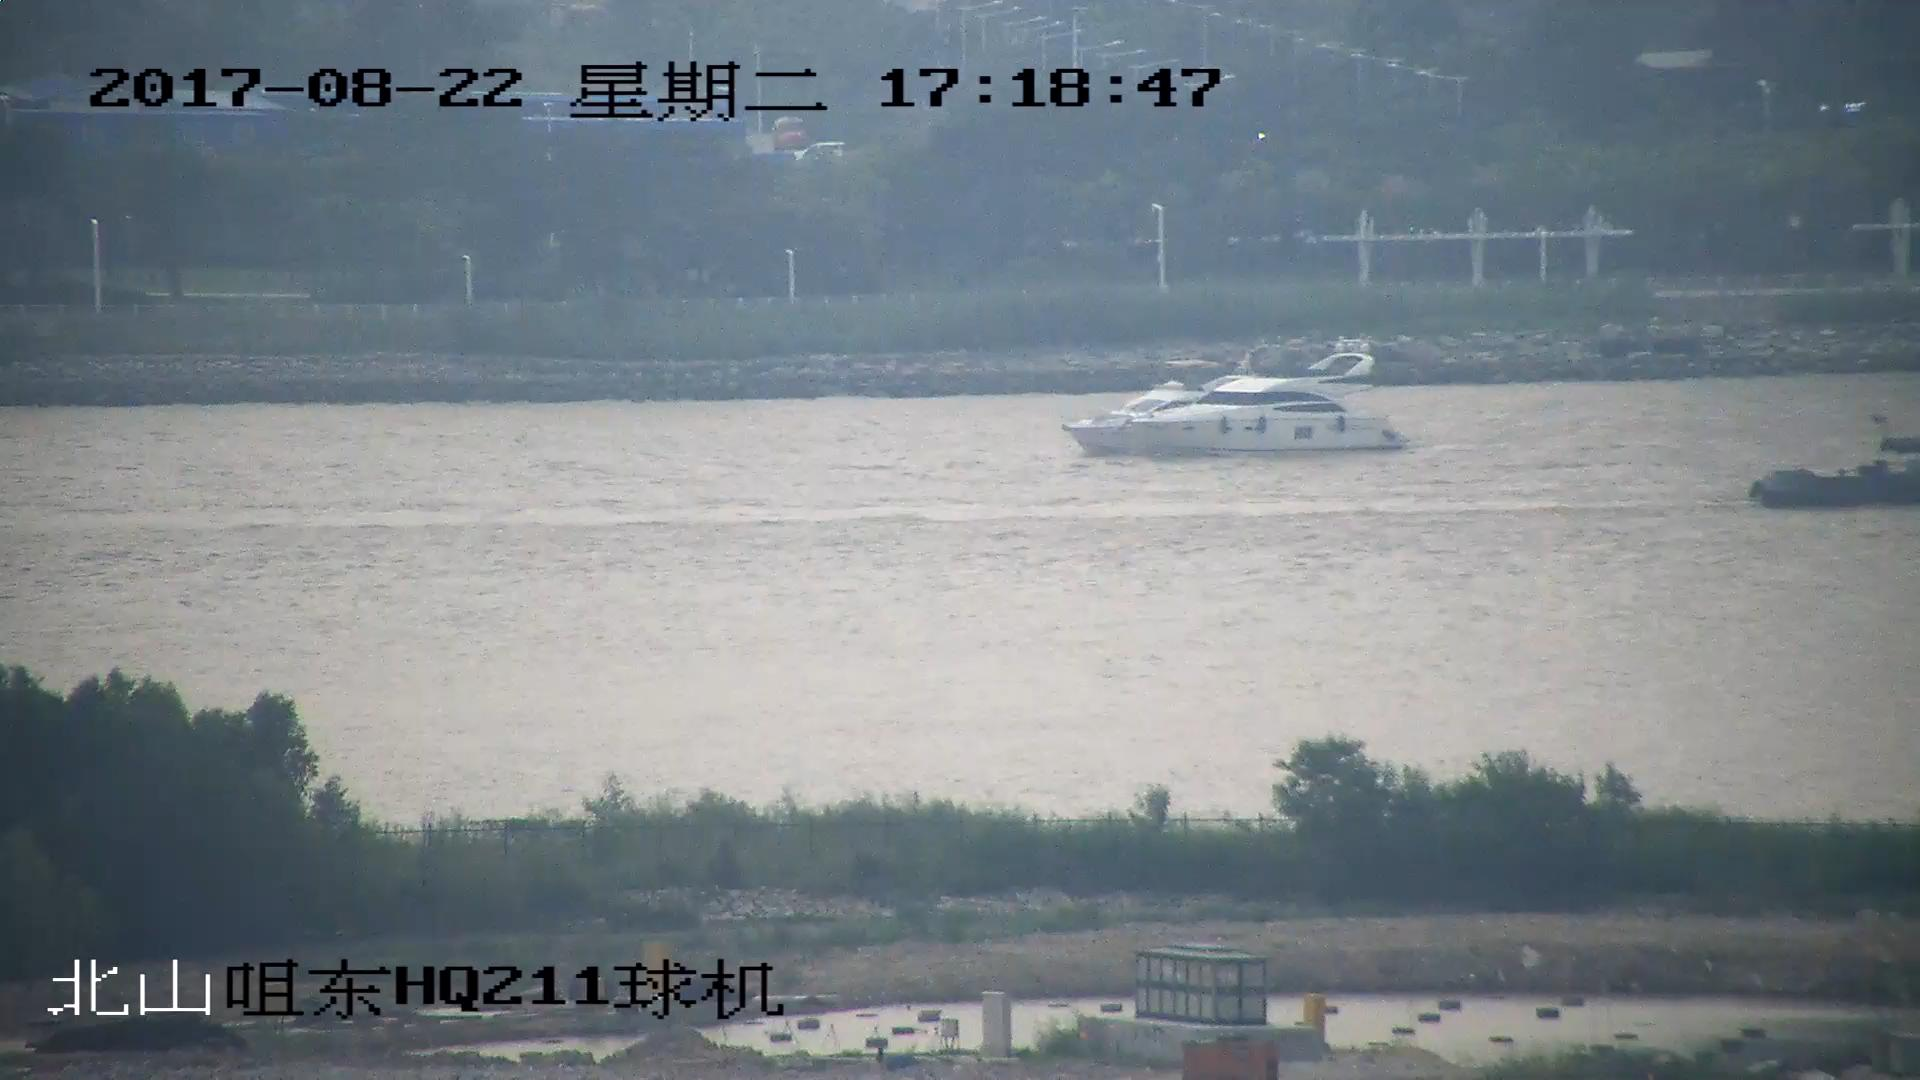passenger ship: (1062, 355, 1412, 455)
